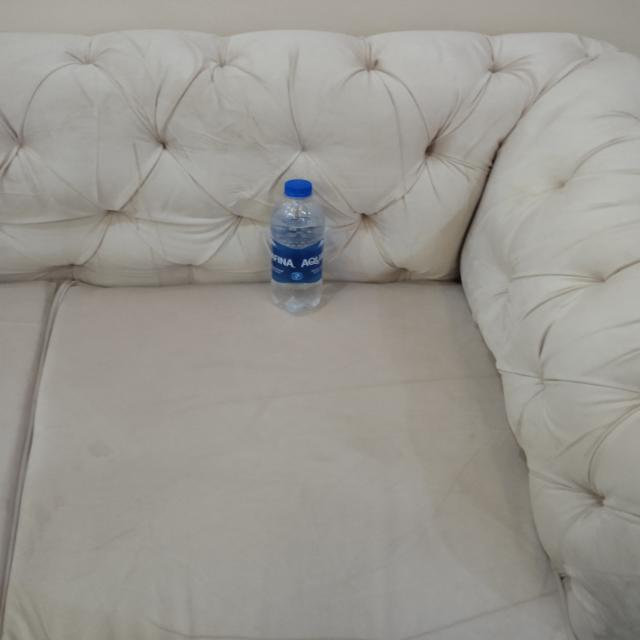Plastic: (267, 174, 329, 317)
